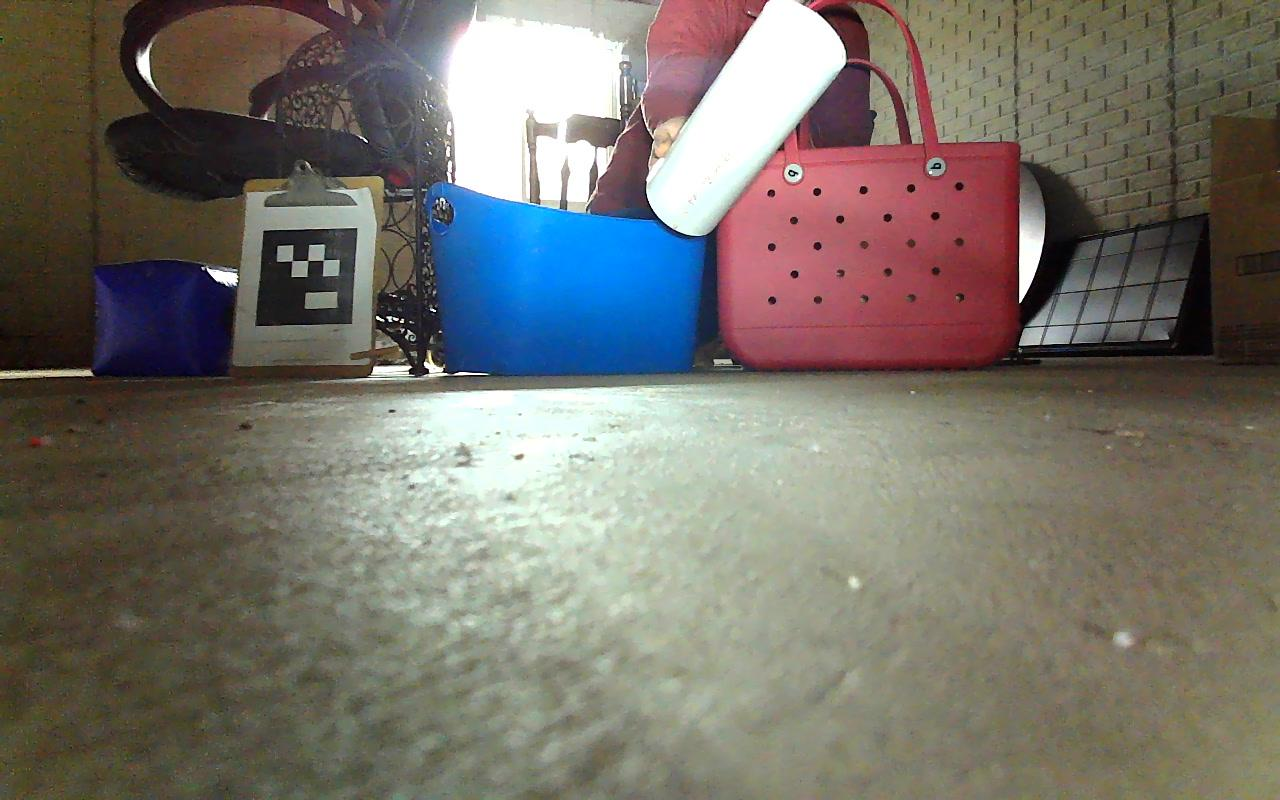coral: (645, 0, 848, 240)
